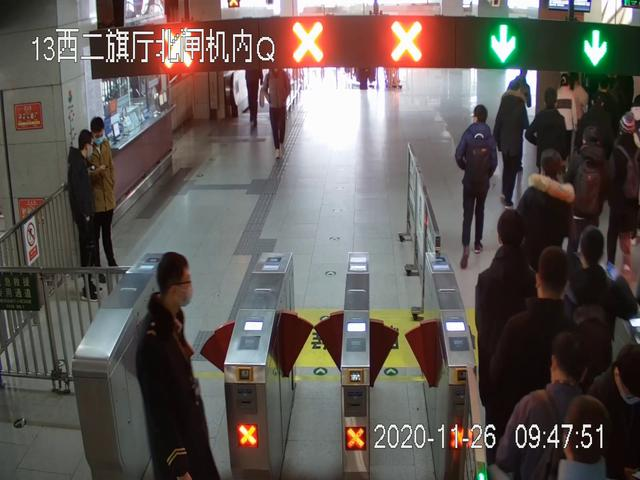person: (485, 246, 599, 480), (475, 211, 557, 480), (135, 252, 223, 480), (496, 332, 613, 480), (517, 150, 574, 299), (454, 105, 499, 268), (67, 131, 106, 302), (83, 118, 122, 280), (524, 87, 566, 223), (605, 113, 637, 275), (494, 81, 528, 208), (263, 67, 292, 160)
